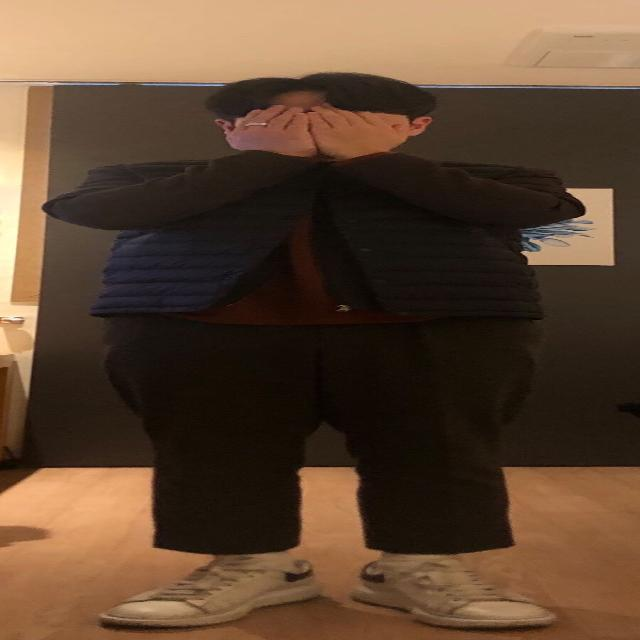padding: (92, 152, 534, 324)
slacks: (114, 306, 537, 559)
